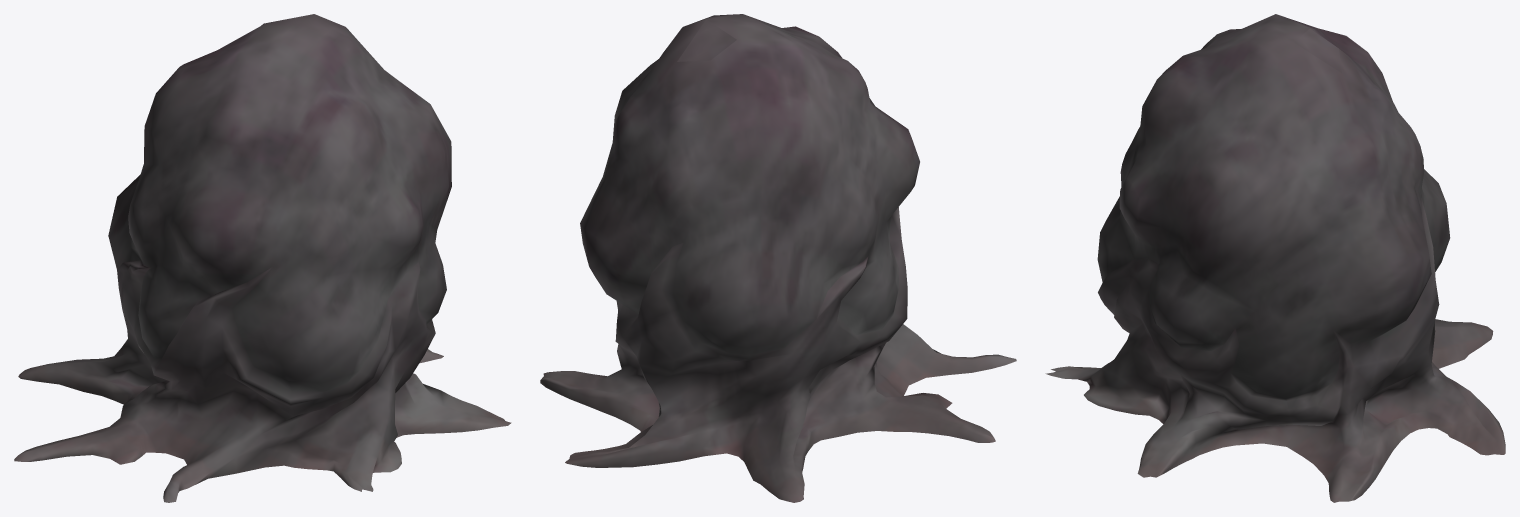
File: Cocoon (6).fbx
3 renders of one model, left to right at view 1: azimuth 30°, elevation 25°; view 2: azimuth 150°, elevation 25°; view 3: azimuth 270°, elevation 25°, orthographic. The views are drawn at different scales.
Visible parts, largest first — view 1: Egg; view 2: Egg; view 3: Egg.
Part boxes in pixels (x1,y1,x2,y2): Egg: [14, 14, 511, 502]; Egg: [540, 14, 1016, 502]; Egg: [1045, 14, 1505, 502].
Size of the model in its own units: 0.7467 by 0.6274 by 0.6674.
1 material, 1 textured.
